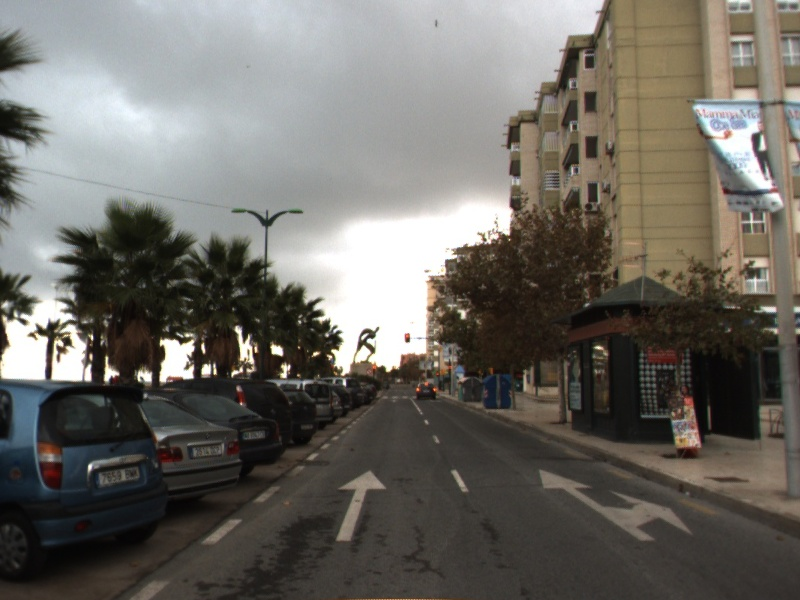STRAIGHT: (334, 468, 388, 543)
STRAIGHT_RIGHT: (537, 467, 695, 543)
